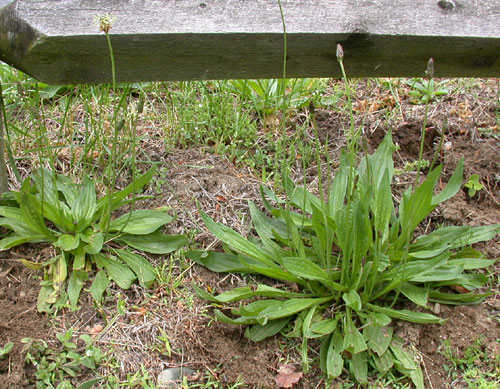buckhorn plantain: (274, 40, 451, 351), (13, 18, 158, 263)
